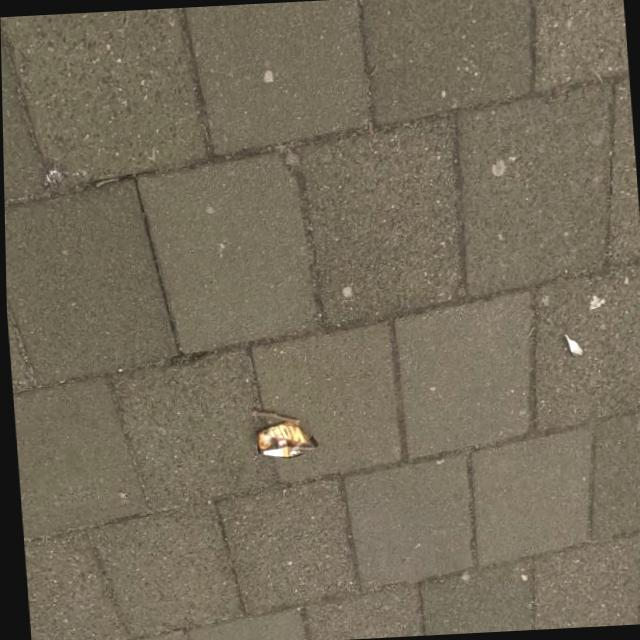Plastic: (250, 418, 317, 460)
